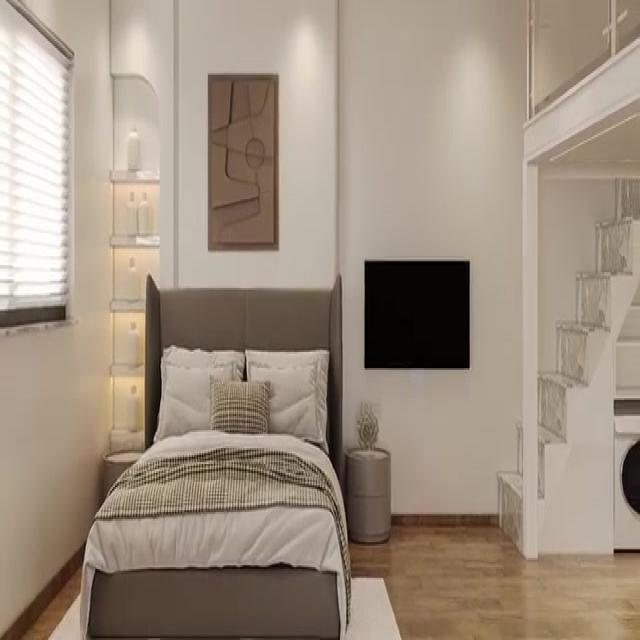obstacle: (79, 272, 351, 638), (345, 448, 393, 546)
